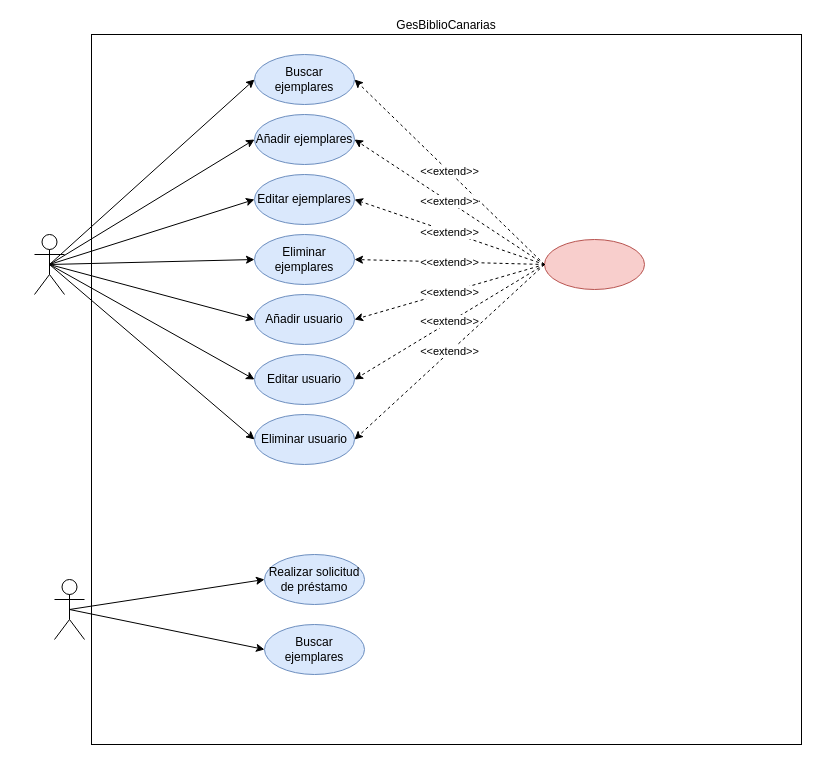
This 819x762 diagram has some shape labels left out. The centre of each missing label's shape, as x and y in pixels:
Bibliotecario: the point at 49,264
Identificación: the point at 594,264
Usuarios: the point at 69,609
